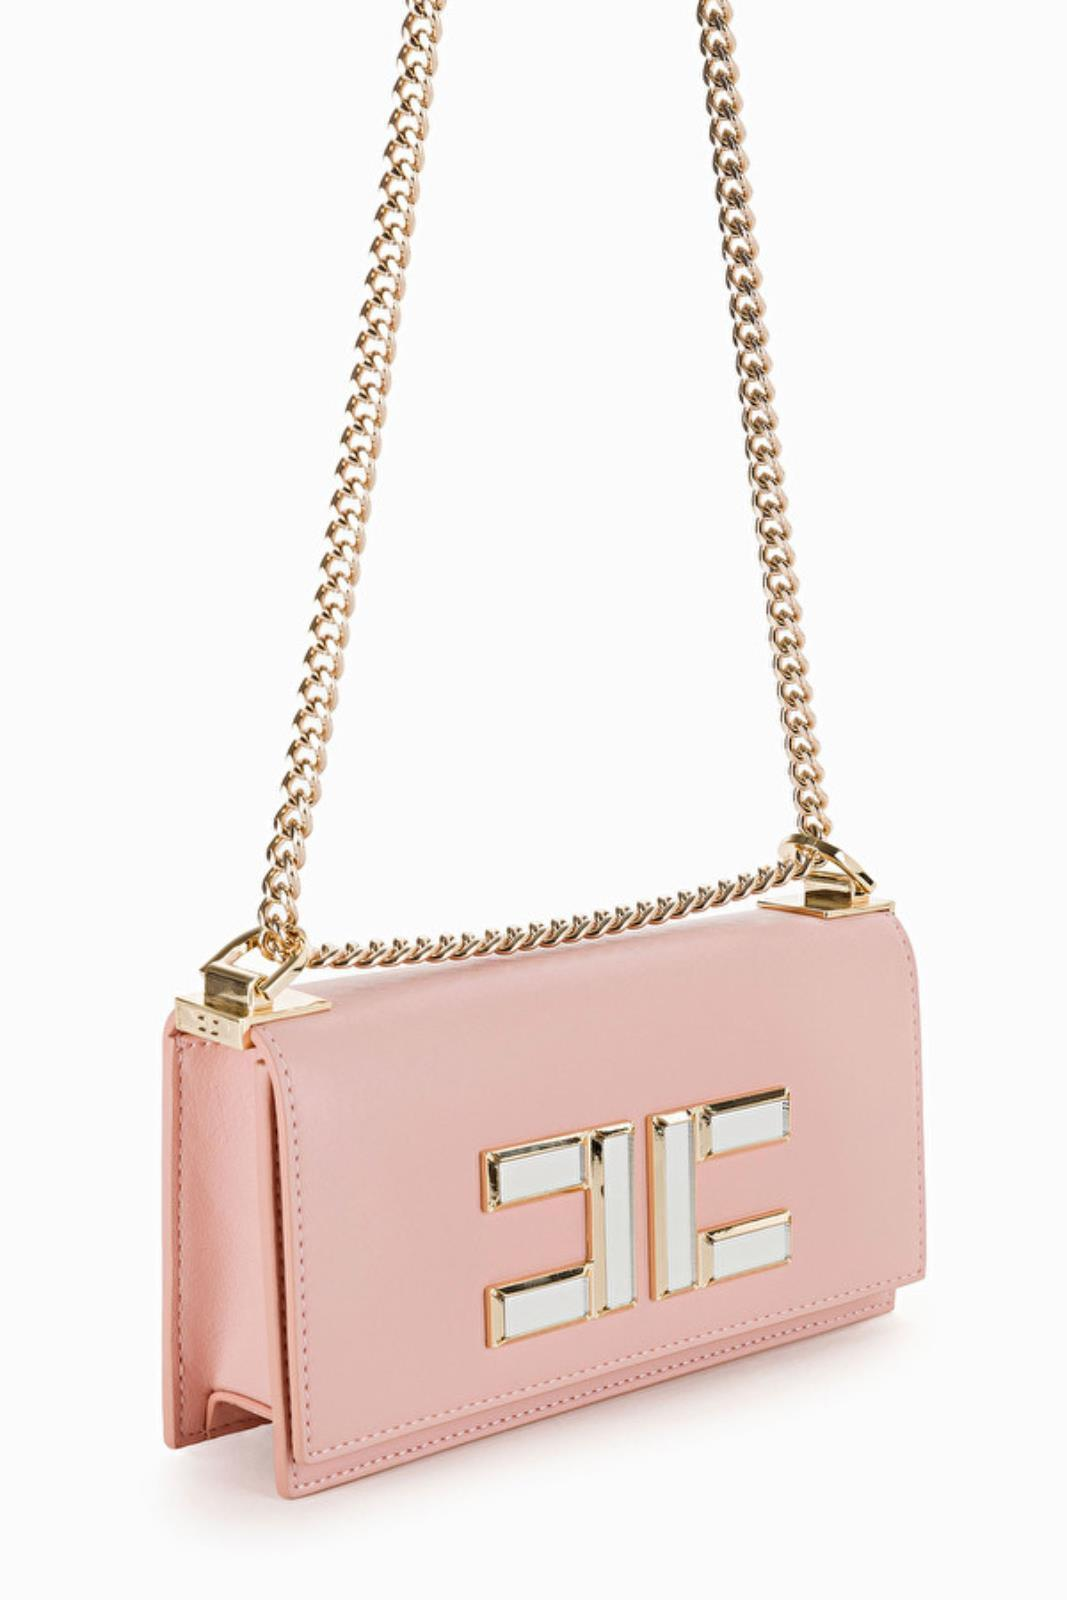ELISABETTA-FRANCHI: (464, 1064, 805, 1375)
